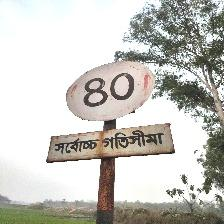Speed-limit: (47, 59, 170, 163)
